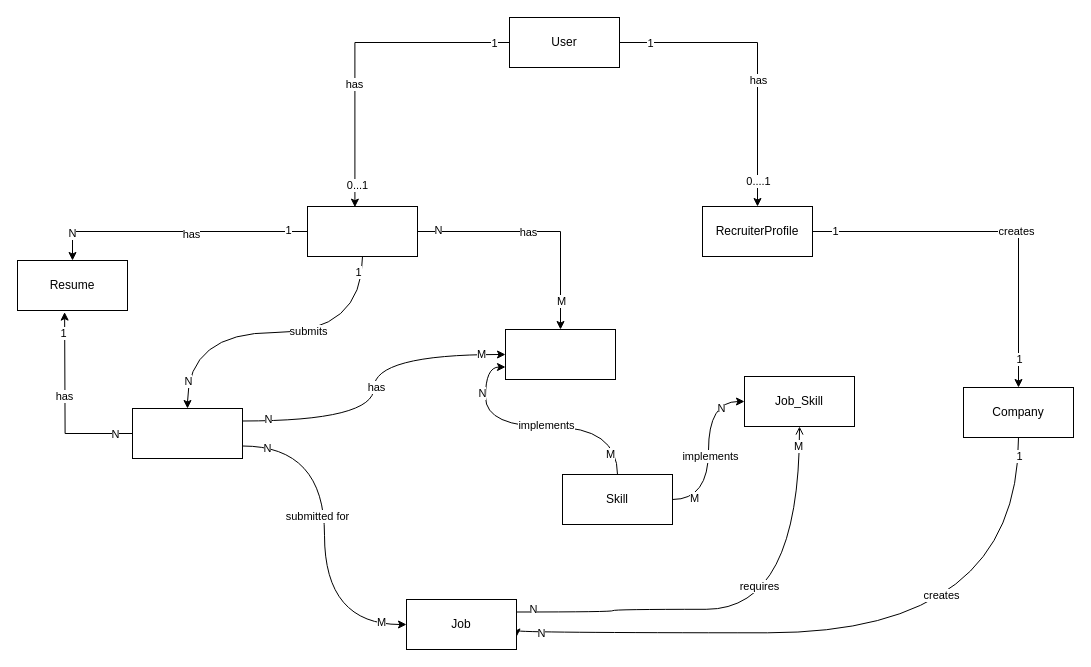
Some shapes in this 1091 by 667 pixel diagram are drawn without their labels. Each missing label, with the centre of its shape:
"Applicant_Skill" goes at point 560,354.
"Application" goes at point 187,433.
"ApplicationProfile" goes at point 362,231.
